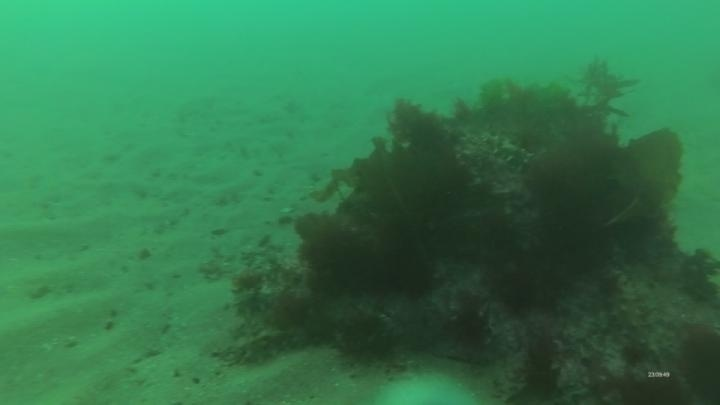echinus: (334, 310, 400, 367), (675, 326, 720, 405)
holothurian: (606, 269, 658, 362), (213, 324, 307, 369), (474, 126, 535, 172)
